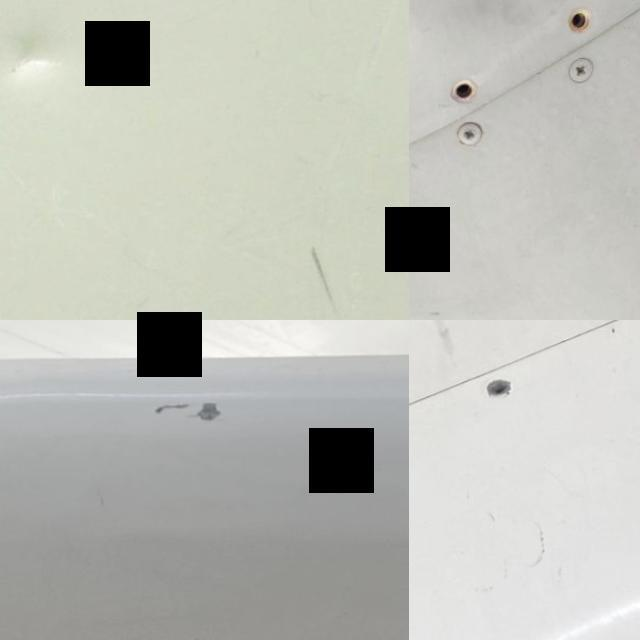Dent: (8, 24, 73, 78)
Missing_Fastener: (552, 0, 618, 52), (443, 62, 502, 118), (486, 378, 518, 403)
